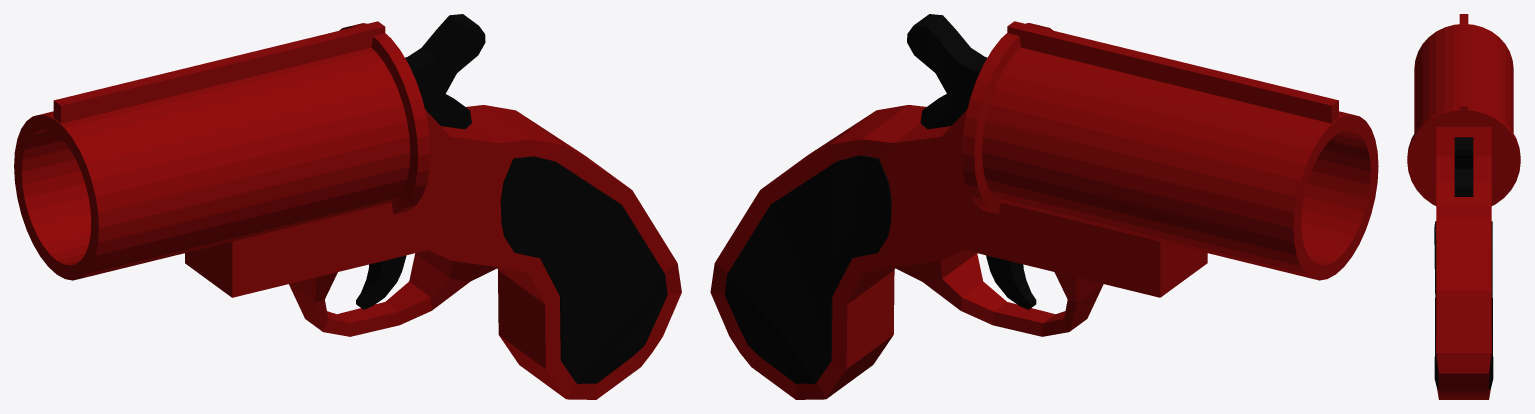
Rendered from SignalGun.fbx.
The picture shows the model from 3 angles, left to right: view 1: azimuth 30°, elevation 25°; view 2: azimuth 150°, elevation 25°; view 3: azimuth 270°, elevation 25°; orthographic projection. The views are drawn at different scales.
Parts seen in each view (by area): view 1: Body, Trigger, TheTrigger; view 2: Body, Trigger, TheTrigger; view 3: Body, Trigger.
Boxes of the visible parts, <box> form: Body: <box>14,21,681,399</box>; Trigger: <box>405,14,485,129</box>; TheTrigger: <box>356,255,406,309</box>; Body: <box>710,21,1378,399</box>; Trigger: <box>907,14,986,129</box>; TheTrigger: <box>986,255,1036,309</box>; Body: <box>1407,14,1520,399</box>; Trigger: <box>1454,137,1473,196</box>.
Bounding box in the file's own units: 21.35 × 13.76 × 5.94.
